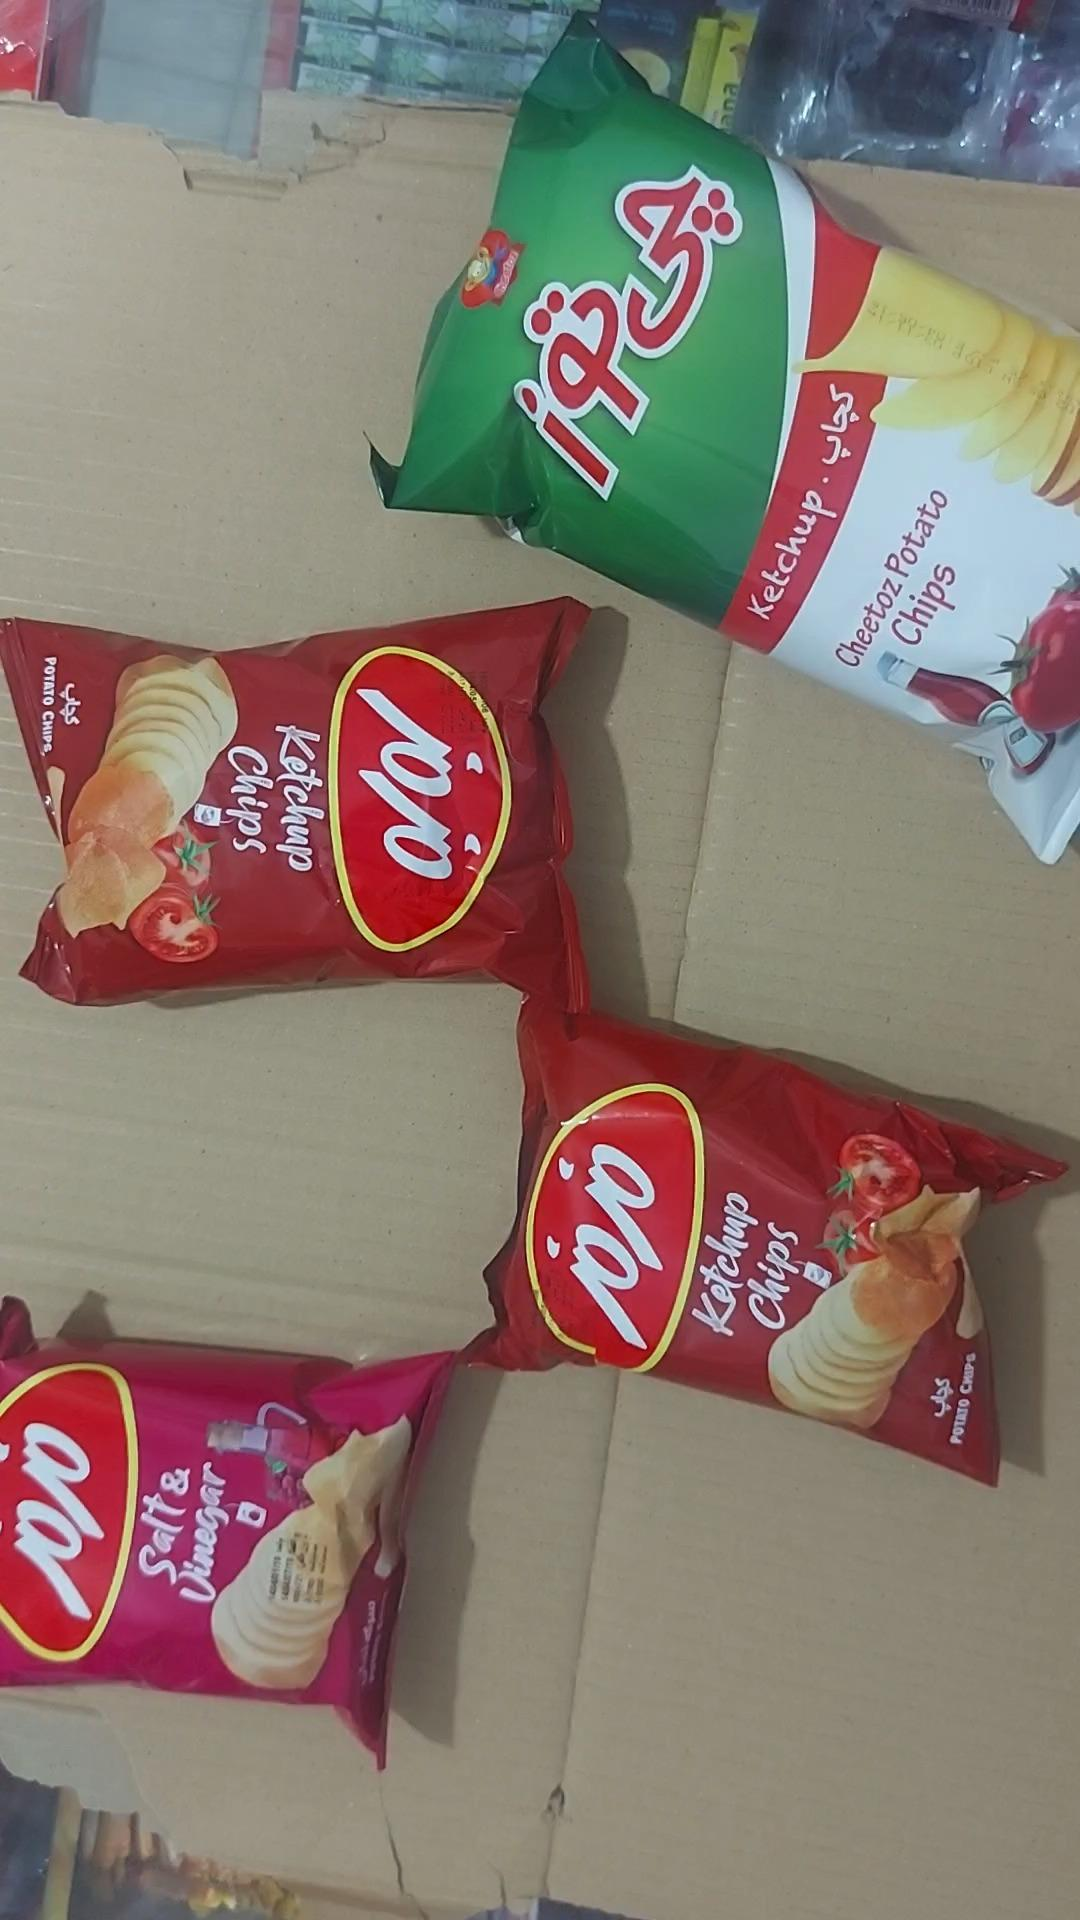Cheetoz ketchup chips: (368, 12, 1079, 870)
Maz Maz ketchup chips: (456, 1002, 1072, 1489), (0, 597, 592, 1026)
Maz Maz vinegar chips: (0, 1298, 460, 1772)
